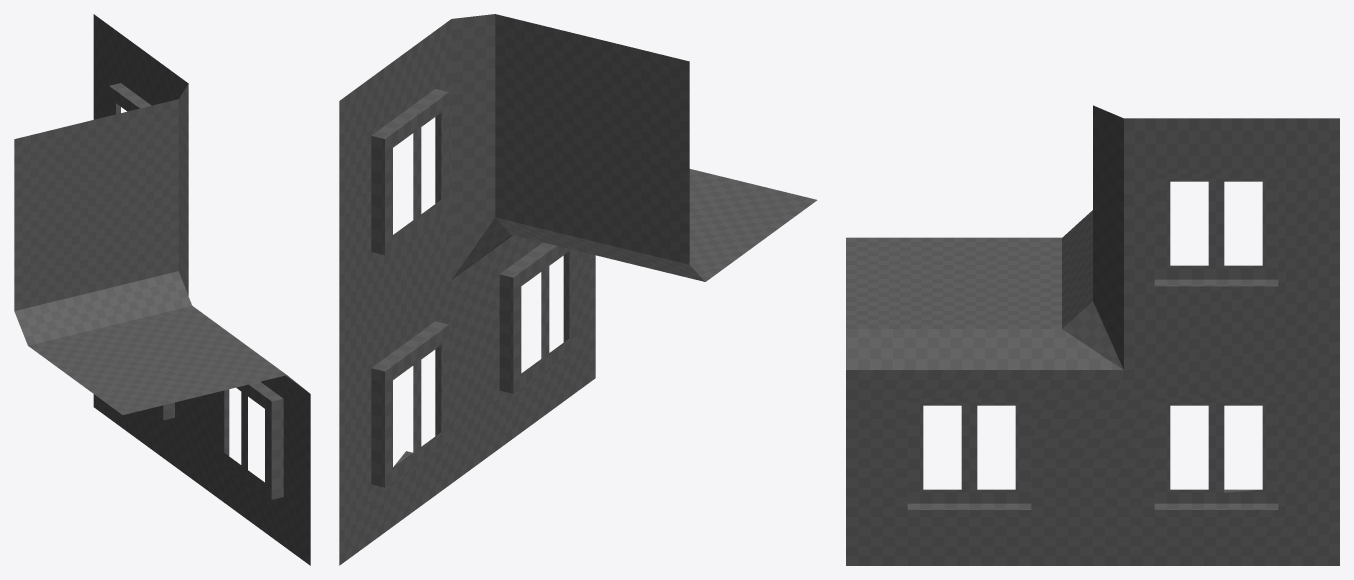
The picture shows the model from 3 angles, left to right: view 1: azimuth 30°, elevation 25°; view 2: azimuth 150°, elevation 25°; view 3: azimuth 270°, elevation 25°; orthographic projection. The views are drawn at different scales.
Visible parts, largest first — view 1: CubeDownBackLeft2V3; view 2: CubeDownBackLeft2V3; view 3: CubeDownBackLeft2V3.
Part boxes in pixels (left/top/right/bottom): CubeDownBackLeft2V3: left=14, top=14, right=310, bottom=565; CubeDownBackLeft2V3: left=339, top=14, right=817, bottom=565; CubeDownBackLeft2V3: left=846, top=105, right=1339, bottom=565.
Bounding box in the file's own units: 2 × 4 × 4.
Materials: 1 (1 with a texture image).
